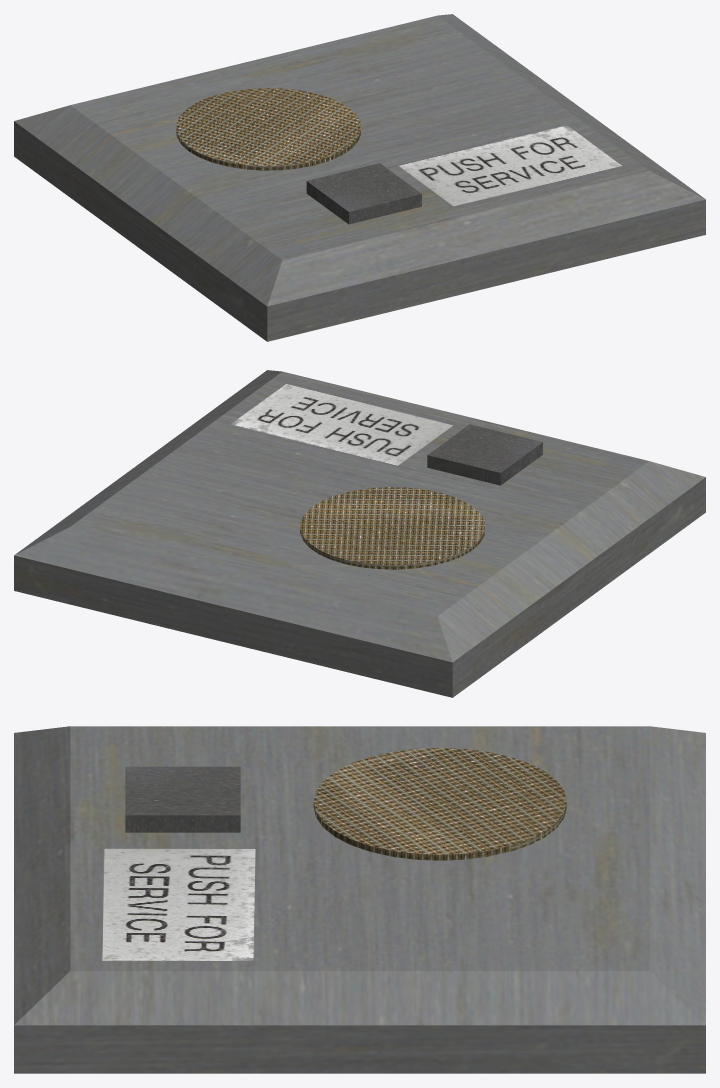
The model's file is intercom_model.fbx.
3 renders of one model, top to bottom at view 1: azimuth 30°, elevation 25°; view 2: azimuth 150°, elevation 25°; view 3: azimuth 270°, elevation 25°, orthographic. The views are drawn at different scales.
Visible parts, largest first — view 1: Cube, Cylinder, Cube.001; view 2: Cube, Cylinder, Cube.001; view 3: Cube, Cylinder, Cube.001.
Boxes of the visible parts, bbox=[...] form: Cube: bbox=[14, 14, 705, 341]; Cylinder: bbox=[176, 88, 360, 170]; Cube.001: bbox=[306, 163, 421, 224]; Cube: bbox=[14, 370, 705, 697]; Cylinder: bbox=[300, 487, 484, 569]; Cube.001: bbox=[427, 424, 542, 485]; Cube: bbox=[14, 726, 705, 1073]; Cylinder: bbox=[313, 747, 566, 860]; Cube.001: bbox=[125, 766, 240, 832].
Bounding box in the file's own units: 200 × 30.67 × 200.
